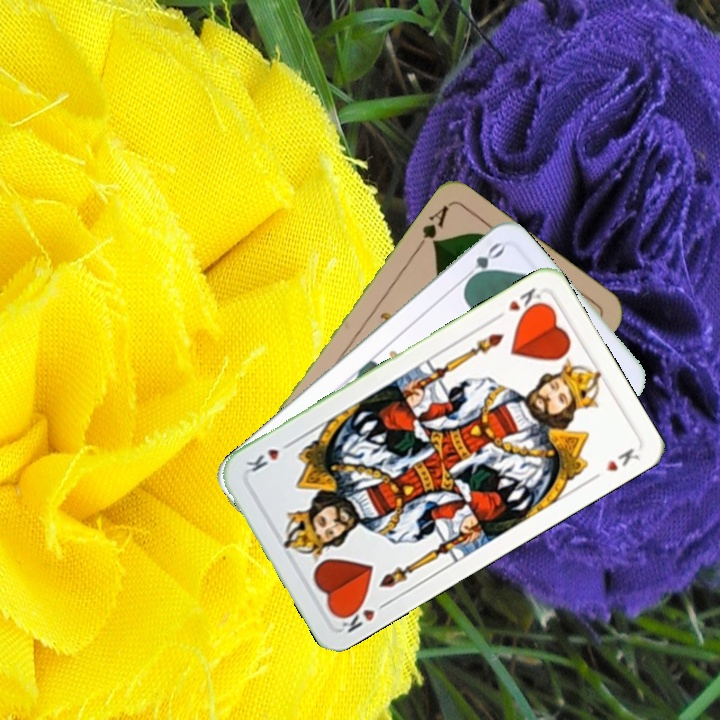GA: (412, 201, 452, 253)
GO: (457, 238, 507, 288)
HK: (490, 283, 549, 323), (333, 597, 392, 635)
